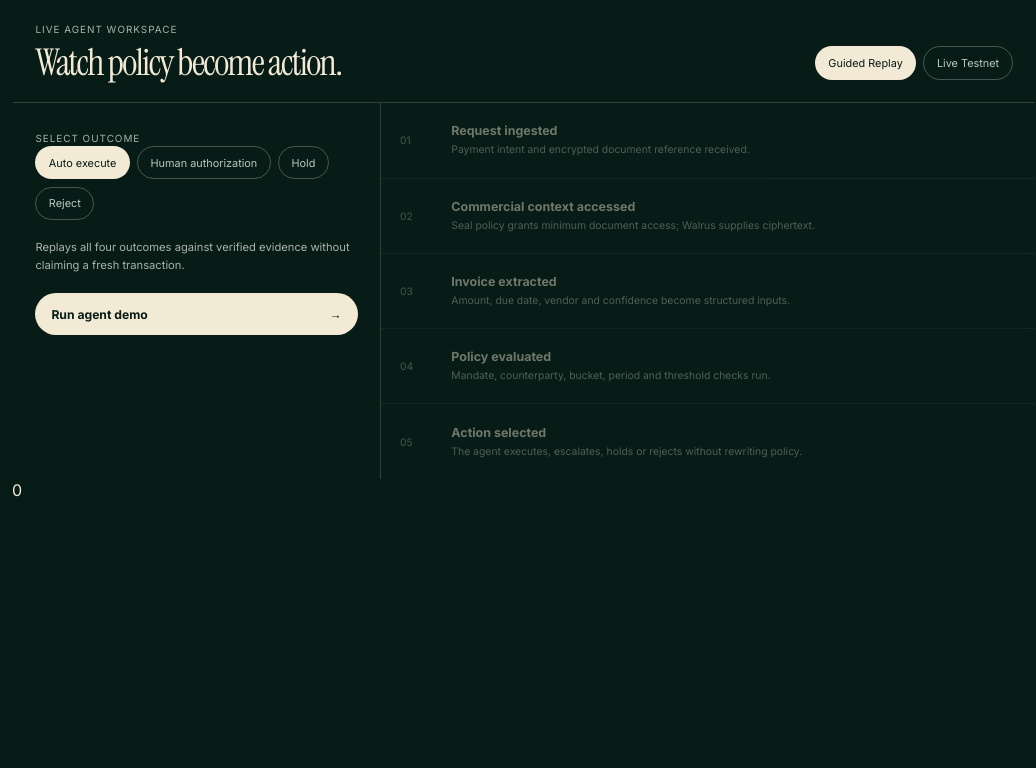
AgentDemoRunner › runs the visible agent pipeline and commits one shared replay result
Click the button "Run agent demo →": (100, 314) [35,293,358,336]
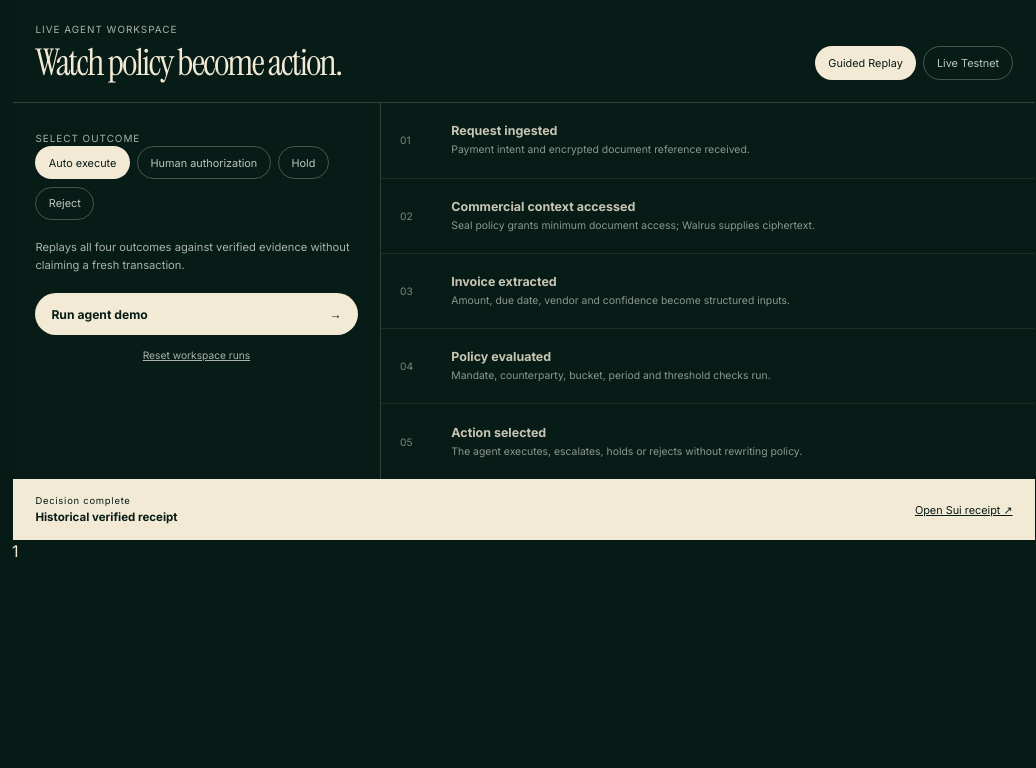
Expected: the text "Decision complete" is shown, [35,495,131,506]
Expected: the text named "Completed demo runs" reads "1", [12,541,18,561]
Expected: the text "Historical verified receipt" is shown, [35,510,178,524]
